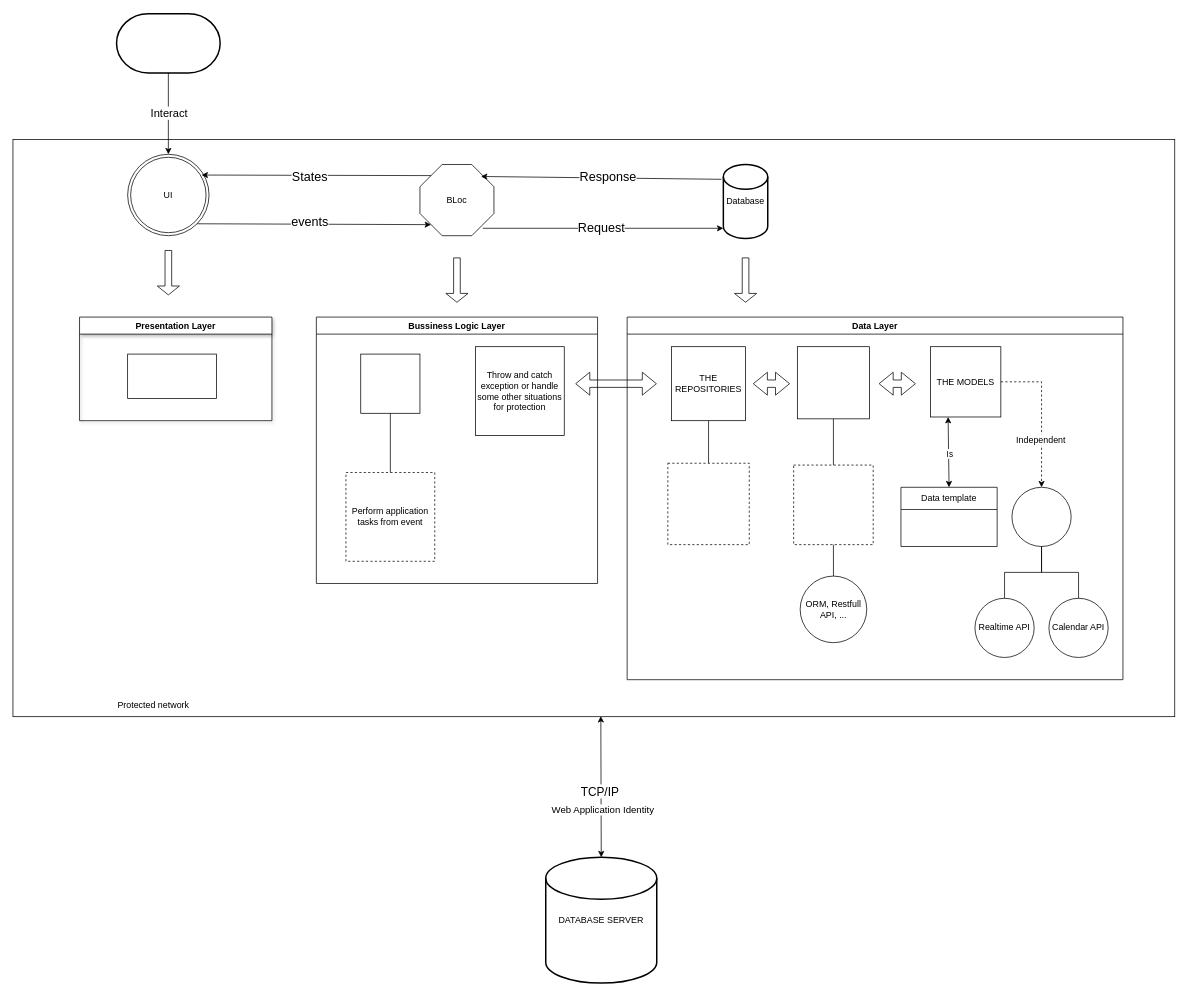
This 1188x996 diagram has some shape labels left out. The shapes that lost their labels are listed below. From the top down, each one's centre as x and y in pixels, then its label:
At point (168, 43): "USER".
At point (171, 375): "UI Application".
At point (390, 383): "cubits".
At point (833, 382): "THE DATA PROVIDER".
At point (708, 503): "Create interface to operate data".
At point (833, 504): "App communicate with data".
At point (1041, 516): "The data source".
